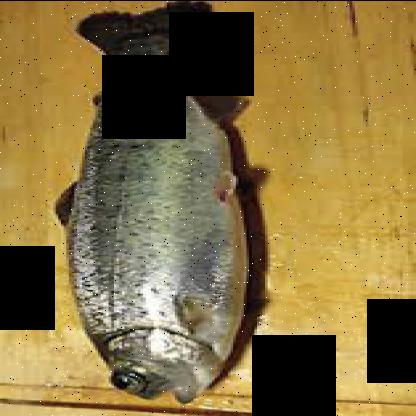fish: (47, 1, 264, 403)
